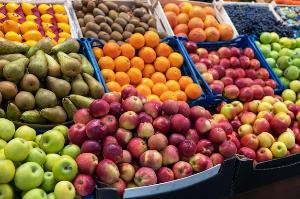apple: (71, 85, 234, 199), (182, 38, 278, 100), (0, 126, 78, 199), (224, 92, 300, 164), (252, 30, 300, 92), (13, 162, 44, 192), (52, 156, 78, 182), (4, 138, 30, 163), (39, 131, 64, 155), (96, 161, 119, 185), (76, 154, 99, 177), (73, 175, 95, 197), (68, 124, 89, 146), (86, 120, 108, 141), (134, 168, 157, 188), (127, 138, 148, 159), (38, 172, 58, 194), (140, 151, 162, 171), (113, 128, 133, 148), (103, 144, 123, 164), (171, 115, 191, 135), (119, 111, 140, 130), (161, 146, 180, 167), (24, 149, 46, 167), (143, 100, 163, 119), (54, 182, 76, 199), (189, 154, 208, 173), (0, 160, 15, 184), (100, 115, 118, 135), (90, 99, 110, 117), (173, 162, 193, 180), (13, 126, 36, 141), (241, 134, 260, 152), (148, 134, 168, 151), (118, 164, 135, 184), (123, 96, 143, 113), (81, 140, 102, 156), (271, 117, 289, 135), (74, 109, 94, 125), (43, 154, 60, 172), (179, 140, 197, 157), (278, 133, 296, 150), (270, 142, 288, 159), (111, 179, 127, 198), (189, 106, 208, 122), (254, 118, 271, 135), (195, 117, 212, 134), (137, 123, 155, 139), (153, 117, 171, 133), (156, 168, 174, 184), (209, 128, 227, 144), (109, 103, 125, 120), (197, 140, 214, 156), (221, 104, 237, 121), (284, 65, 300, 81), (162, 100, 179, 115), (258, 133, 275, 148), (256, 148, 273, 163), (274, 113, 292, 127), (22, 189, 47, 199), (102, 92, 122, 104), (169, 134, 186, 148), (223, 85, 240, 99), (100, 137, 118, 150), (238, 148, 256, 161), (185, 129, 200, 144), (239, 87, 254, 102), (277, 56, 293, 70), (122, 86, 138, 100), (238, 125, 254, 139), (241, 112, 257, 126), (178, 101, 190, 118), (118, 151, 132, 165), (210, 154, 225, 167), (251, 85, 264, 100), (258, 111, 274, 123), (0, 185, 13, 199), (274, 102, 288, 115), (231, 101, 244, 115), (249, 100, 262, 114), (138, 112, 153, 124), (258, 103, 274, 114), (212, 65, 225, 78), (218, 47, 232, 59), (239, 55, 251, 69), (256, 68, 270, 80), (260, 44, 272, 58), (209, 83, 224, 94), (234, 78, 249, 89), (202, 72, 214, 85), (185, 41, 198, 53), (279, 37, 292, 49), (213, 114, 230, 123), (288, 104, 300, 116), (196, 62, 208, 74), (231, 120, 242, 133), (260, 33, 273, 44), (279, 48, 293, 58), (262, 96, 277, 105), (226, 69, 238, 80), (200, 58, 212, 69), (219, 58, 231, 69), (208, 54, 220, 65), (230, 57, 241, 69), (249, 59, 261, 70), (221, 77, 234, 87), (208, 69, 219, 80), (264, 86, 275, 97), (196, 48, 208, 58), (265, 79, 277, 89), (280, 77, 292, 87), (189, 53, 200, 63), (246, 69, 257, 79), (235, 68, 246, 78), (271, 42, 282, 52), (231, 47, 241, 57), (266, 58, 276, 68), (254, 79, 266, 87), (245, 78, 255, 87), (274, 68, 284, 77), (271, 51, 280, 61), (271, 32, 280, 42), (293, 47, 300, 59), (291, 39, 298, 49)
kiwi: (74, 0, 169, 42), (85, 22, 101, 33), (99, 22, 112, 34), (118, 12, 131, 23), (114, 17, 127, 28), (111, 23, 124, 34), (98, 31, 111, 42), (110, 31, 123, 42), (98, 3, 109, 15), (105, 1, 118, 11), (83, 14, 95, 24), (72, 0, 83, 10), (95, 15, 107, 24), (87, 0, 96, 12), (92, 8, 105, 16), (85, 30, 98, 38), (108, 10, 118, 20), (125, 23, 135, 33), (122, 31, 133, 40), (134, 26, 145, 35), (133, 8, 144, 17), (105, 16, 114, 26), (139, 22, 149, 31), (148, 18, 157, 28), (129, 19, 140, 27), (119, 5, 131, 12), (141, 14, 150, 23), (75, 10, 85, 18), (78, 18, 85, 27)
lemon: (0, 0, 76, 47), (2, 19, 19, 33), (20, 21, 38, 34), (23, 30, 43, 41), (4, 31, 22, 43), (21, 2, 35, 15), (7, 12, 22, 23), (54, 13, 69, 24), (37, 3, 50, 15), (57, 23, 70, 34), (5, 2, 19, 12), (52, 4, 66, 14), (40, 13, 53, 23), (41, 22, 53, 32), (25, 14, 38, 22), (45, 31, 56, 39), (58, 32, 71, 38)
orange: (84, 31, 206, 107), (164, 2, 232, 40), (138, 46, 156, 64), (103, 42, 121, 59), (185, 83, 202, 100), (144, 30, 160, 48), (153, 57, 171, 73), (114, 56, 131, 72), (189, 6, 207, 21), (189, 27, 207, 42), (219, 23, 234, 41), (129, 33, 145, 49), (120, 43, 136, 59), (168, 52, 184, 68), (155, 43, 172, 58), (127, 68, 142, 85), (151, 83, 169, 97), (205, 26, 220, 42), (98, 56, 115, 70), (165, 67, 182, 81), (179, 76, 194, 91), (188, 17, 205, 30), (165, 11, 178, 28), (160, 91, 178, 103), (130, 57, 145, 71), (164, 2, 180, 15), (136, 84, 152, 97), (173, 23, 190, 35), (150, 72, 167, 84), (142, 64, 156, 78), (101, 69, 115, 83), (138, 78, 154, 90), (179, 1, 193, 14), (166, 80, 181, 92), (92, 47, 104, 61), (204, 18, 219, 29), (106, 81, 121, 92), (177, 12, 190, 24), (175, 91, 187, 102), (204, 6, 215, 16)
pear: (1, 37, 97, 121), (24, 38, 54, 59), (57, 52, 81, 77), (3, 58, 28, 82), (27, 50, 48, 78), (82, 73, 104, 99), (46, 76, 71, 98), (40, 106, 67, 125), (0, 37, 29, 54), (51, 38, 80, 54), (35, 88, 57, 109), (19, 73, 40, 93), (71, 74, 89, 96), (45, 54, 62, 77), (20, 110, 47, 124), (69, 95, 95, 109), (78, 54, 94, 76), (62, 98, 77, 121), (6, 104, 21, 121), (0, 54, 26, 62)
